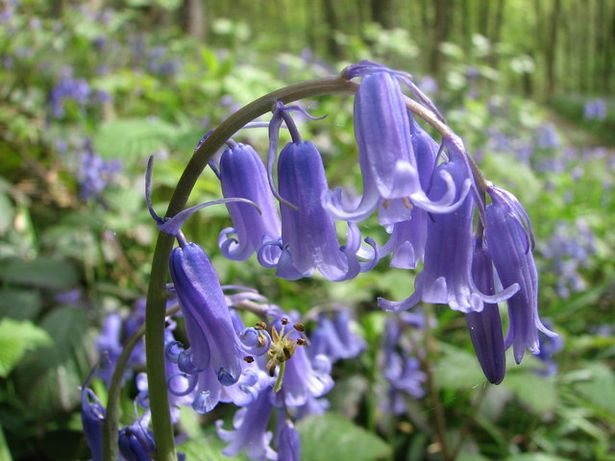bluebell: (375, 161, 520, 315), (327, 73, 467, 231), (159, 242, 274, 386), (269, 141, 364, 287), (482, 206, 560, 363), (210, 143, 291, 269)
